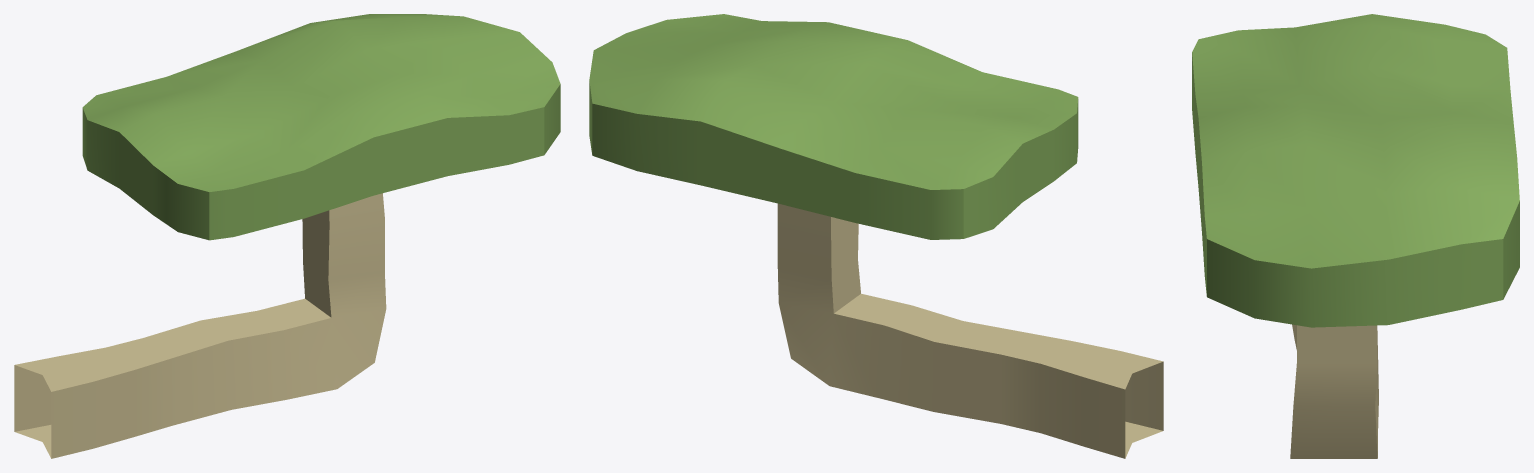
Rendered from tree_limb.fbx.
3 views of the same model, side by side, from view 1: azimuth 30°, elevation 25°; view 2: azimuth 150°, elevation 25°; view 3: azimuth 270°, elevation 25° (orthographic). The views are drawn at different scales.
Visible parts, largest first — view 1: pCube2, pCube1; view 2: pCube2, pCube1; view 3: pCube2, pCube1.
Boxes of the visible parts, bbox=[...] form: pCube2: bbox=[82, 14, 560, 240]; pCube1: bbox=[14, 193, 386, 458]; pCube2: bbox=[589, 14, 1078, 239]; pCube1: bbox=[777, 203, 1163, 458]; pCube2: bbox=[1192, 14, 1519, 327]; pCube1: bbox=[1290, 324, 1378, 458].
Bounding box in the file's own units: 31.34 × 17.71 × 14.42.
